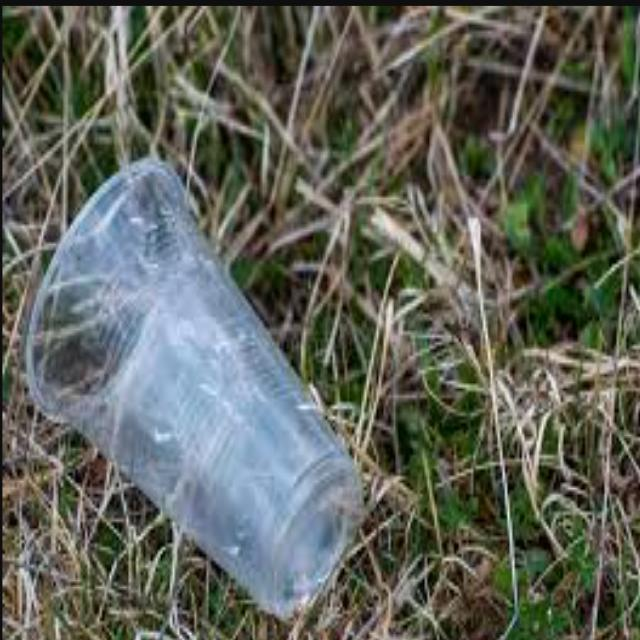GelasPlastik: (24, 155, 366, 621)
